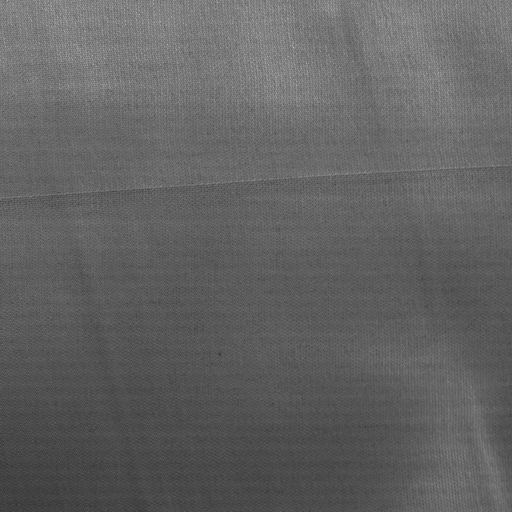defect: (1, 158, 512, 212)
